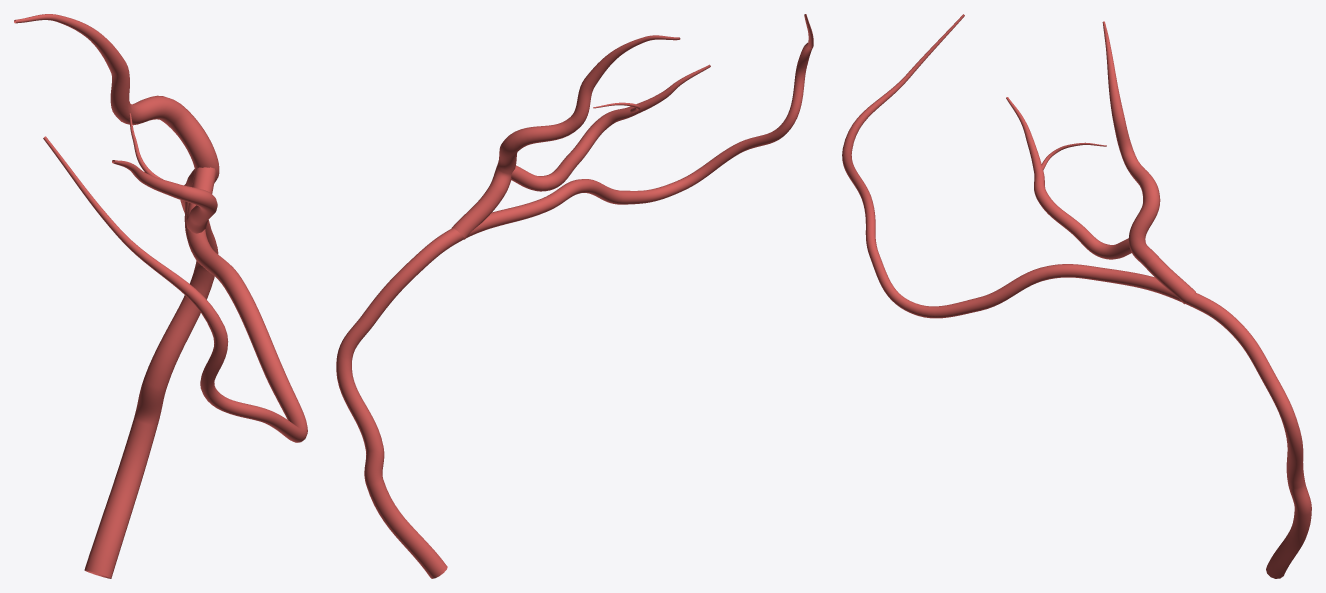
3 views of the same model, side by side, from view 1: azimuth 30°, elevation 25°; view 2: azimuth 150°, elevation 25°; view 3: azimuth 270°, elevation 25° (orthographic). The views are drawn at different scales.
Visible parts, largest first — view 1: 左侧顶后动脉; view 2: 左侧顶后动脉; view 3: 左侧顶后动脉.
Part boxes in pixels (<box>): 左侧顶后动脉: <box>14,14,307,578</box>; 左侧顶后动脉: <box>336,14,813,578</box>; 左侧顶后动脉: <box>842,14,1311,578</box>.
Size of the model in its own units: 0.039 by 0.064 by 0.0562.
